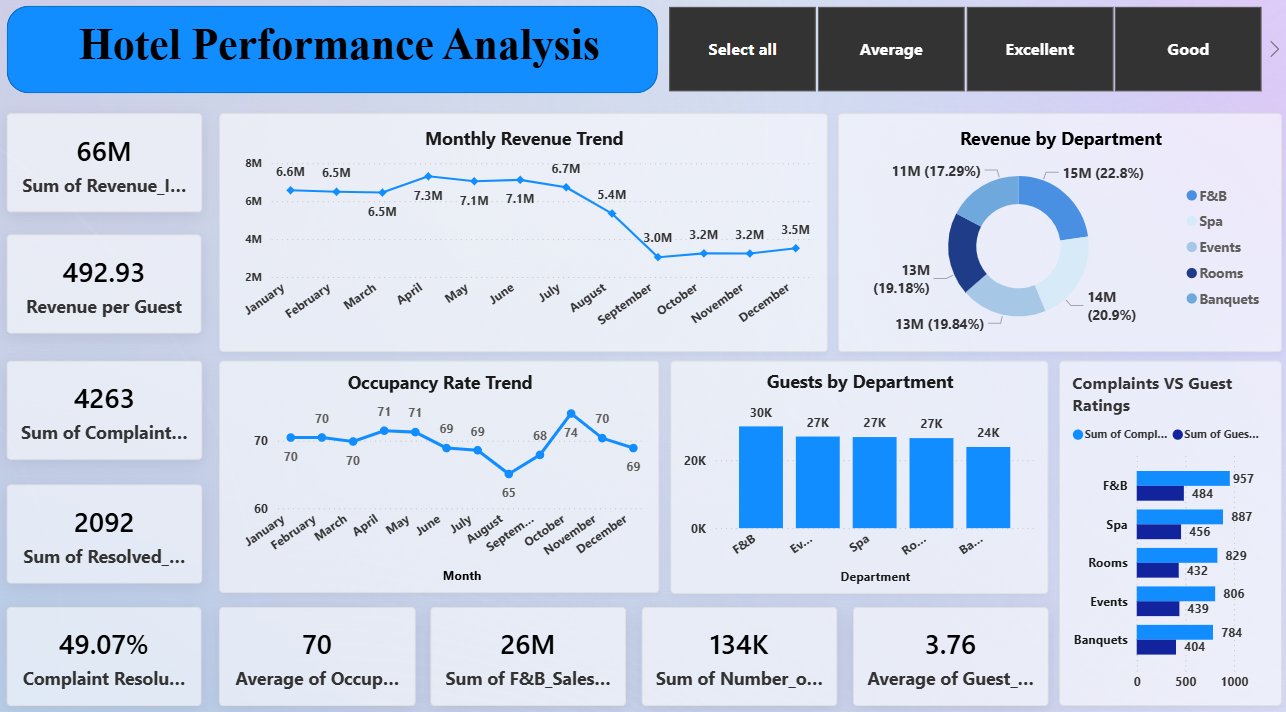

This screenshot's page, from the dashboard's own definition file:
{"tool":"powerbi","page":{"name":"Page 1","canvas":[1280,720],"ordinal":0},"visuals":[{"type":"shape","box":[23.2,13.5,637.1,85.6],"z":0},{"type":"card","fields":{"Values":["Sum(MIS_Operational_Data.Revenue_INR)"]},"box":[23.1,118.7,191.1,96.6],"z":1000},{"type":"card","fields":{"Values":["Sum(MIS_Operational_Data.F&B_Sales_INR)"]},"box":[437.3,601.7,191.1,96.6],"z":2000},{"type":"card","fields":{"Values":["Avg(MIS_Operational_Data.Guest_Feedback_Rating)"]},"box":[851.6,601.7,191.1,96.6],"z":3000},{"type":"card","fields":{"Values":["Sum(MIS_Operational_Data.Number_of_Guests)"]},"box":[644.5,601.7,191.1,96.6],"z":4000},{"type":"card","fields":{"Values":["Avg(MIS_Operational_Data.Occupancy_Rate_Percent)"]},"box":[230.8,601.6,191.9,96.7],"z":5000},{"type":"card","fields":{"Values":["Sum(MIS_Operational_Data.Complaints_Received)"]},"box":[23.1,360.7,191.1,96.6],"z":6000},{"type":"card","fields":{"Values":["MIS_Operational_Data.Revenus per Guest"]},"box":[23.2,237,190.6,96.7],"z":7000},{"type":"card","fields":{"Values":["MIS_Operational_Data.Complaint Rsolution Rate"]},"box":[23.1,601.6,190.4,96.7],"z":8000},{"type":"lineChart","title":"Monthly Revenue Trend","fields":{"Category":["MIS_Operational_Data.Date.Variation.Date Hierarchy.Month"],"Y":["Sum(MIS_Operational_Data.Revenue_INR)"]},"box":[230.8,118.7,595.2,233.6],"z":9000},{"type":"donutChart","title":"Revenue by Department","fields":{"Category":["MIS_Operational_Data.Department"],"Y":["Sum(MIS_Operational_Data.Revenue_INR)"]},"box":[836.2,118.7,434.5,233.6],"z":10000},{"type":"columnChart","title":"Guests by Department","fields":{"Category":["MIS_Operational_Data.Department"],"Y":["Sum(MIS_Operational_Data.Number_of_Guests)"]},"box":[672.3,360.7,369.3,228],"z":11000},{"type":"lineChart","title":"Occupancy Rate Trend","fields":{"Category":["MIS_Operational_Data.Date.Variation.Date Hierarchy.Month"],"Y":["Avg(MIS_Operational_Data.Occupancy_Rate_Percent)"]},"box":[231,360.2,430.5,226.8],"z":12000},{"type":"slicer","fields":{"Values":["MIS_Operational_Data.Remarks"]},"box":[651.1,12.7,619.3,87.1],"z":13000},{"type":"clusteredBarChart","title":"Complaints VS Guest Ratings","fields":{"Category":["MIS_Operational_Data.Department"],"Y":["Sum(MIS_Operational_Data.Complaints_Received)","Sum(MIS_Operational_Data.Guest_Feedback_Rating)"]},"box":[1053.2,360.7,217.9,337.6],"z":15000},{"type":"textbox","box":[57.5,22,582.1,67.3],"z":17000},{"type":"card","fields":{"Values":["Sum(MIS_Operational_Data.Resolved_Complaints)"]},"box":[23.1,481.7,191.1,96.6],"z":18000}]}

Visuals, with their boxes in screenshot pixels (x1, y1, x2, y2), scaled from the page's 1280x720 canvas onto the 1286x712 screenshot:
shape: (left=23, top=13, right=663, bottom=98)
card - Sum(MIS_Operational_Data.Revenue_INR): (left=23, top=117, right=215, bottom=213)
card - Sum(MIS_Operational_Data.F&B_Sales_INR): (left=439, top=595, right=631, bottom=691)
card - Avg(MIS_Operational_Data.Guest_Feedback_Rating): (left=856, top=595, right=1048, bottom=691)
card - Sum(MIS_Operational_Data.Number_of_Guests): (left=648, top=595, right=840, bottom=691)
card - Avg(MIS_Operational_Data.Occupancy_Rate_Percent): (left=232, top=595, right=425, bottom=691)
card - Sum(MIS_Operational_Data.Complaints_Received): (left=23, top=357, right=215, bottom=452)
card - MIS_Operational_Data.Revenus per Guest: (left=23, top=234, right=215, bottom=330)
card - MIS_Operational_Data.Complaint Rsolution Rate: (left=23, top=595, right=215, bottom=691)
"Monthly Revenue Trend" lineChart: (left=232, top=117, right=830, bottom=348)
"Revenue by Department" donutChart: (left=840, top=117, right=1277, bottom=348)
"Guests by Department" columnChart: (left=675, top=357, right=1046, bottom=582)
"Occupancy Rate Trend" lineChart: (left=232, top=356, right=665, bottom=580)
slicer - MIS_Operational_Data.Remarks: (left=654, top=13, right=1276, bottom=99)
"Complaints VS Guest Ratings" clusteredBarChart: (left=1058, top=357, right=1277, bottom=691)
textbox: (left=58, top=22, right=643, bottom=88)
card - Sum(MIS_Operational_Data.Resolved_Complaints): (left=23, top=476, right=215, bottom=572)
